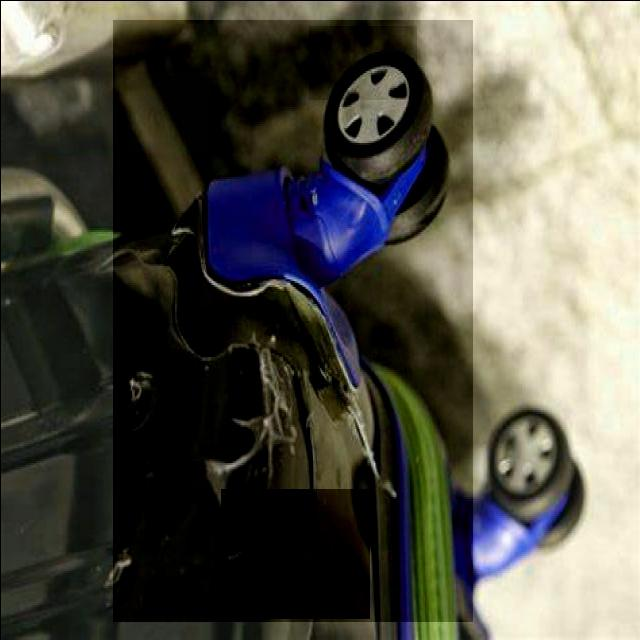Damage-bag: (114, 201, 380, 550)
